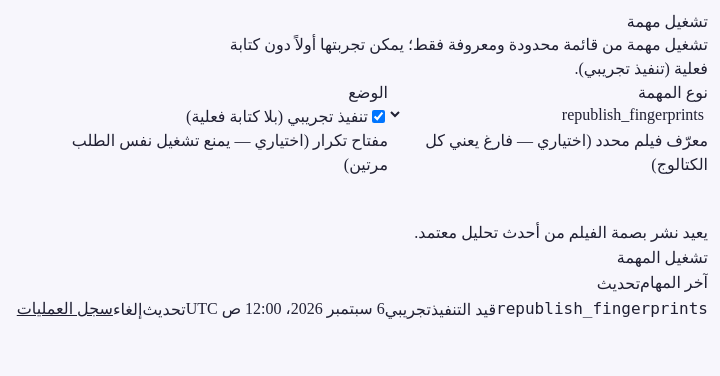
Test: JobsAdmin › surfaces the allowlist when the server refuses an unknown type
Click the button "تشغيل المهمة" at {"x": 662, "y": 258}, box left=617, top=245, right=708, bottom=271
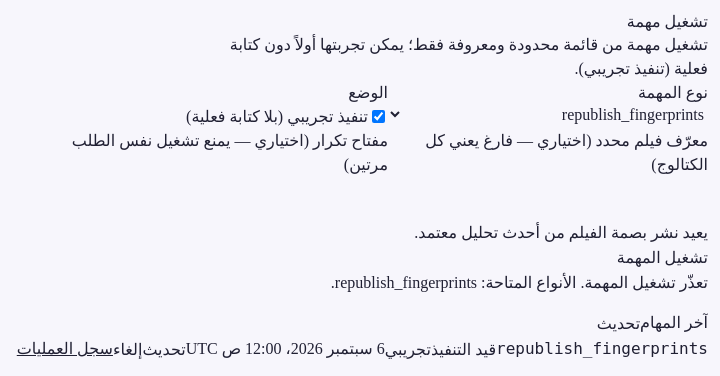
Result: the message shows "republish_fingerprints" at left=331, top=274, right=708, bottom=291
